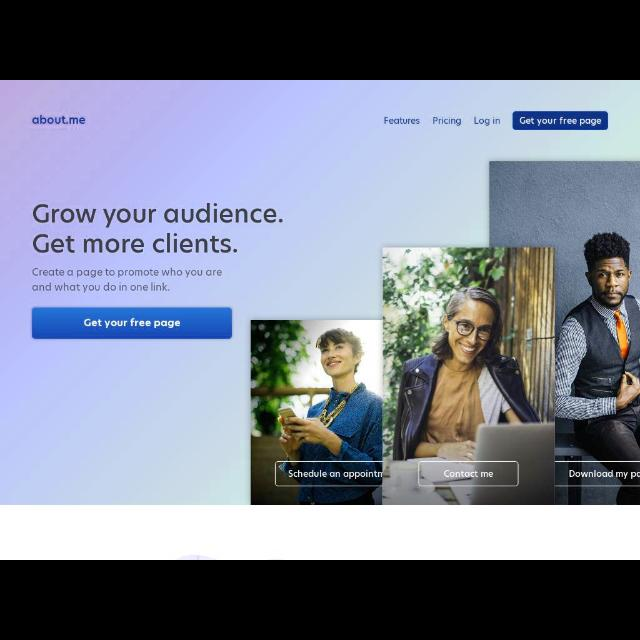backgroundimage: (251, 161, 639, 505)
multitab: (382, 115, 502, 129)
text: (33, 204, 283, 252), (32, 269, 222, 293), (84, 318, 180, 328), (520, 117, 602, 127), (33, 115, 86, 125), (384, 117, 420, 125), (474, 116, 500, 126), (433, 116, 461, 125)
textbutton: (32, 307, 232, 339), (512, 112, 608, 130)
